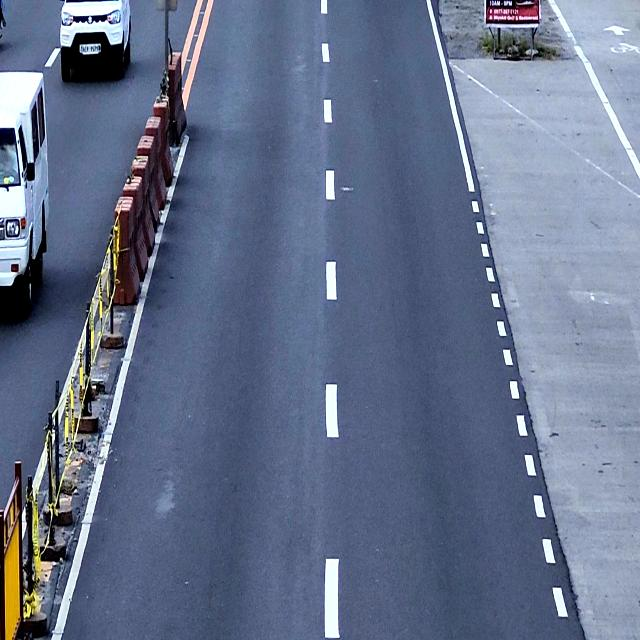Car: (0, 69, 50, 307), (60, 0, 131, 81)
License-Plate: (78, 41, 101, 56)
